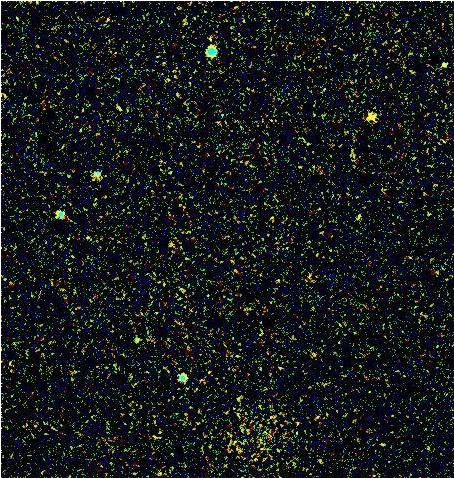star: (357, 101, 387, 131)
